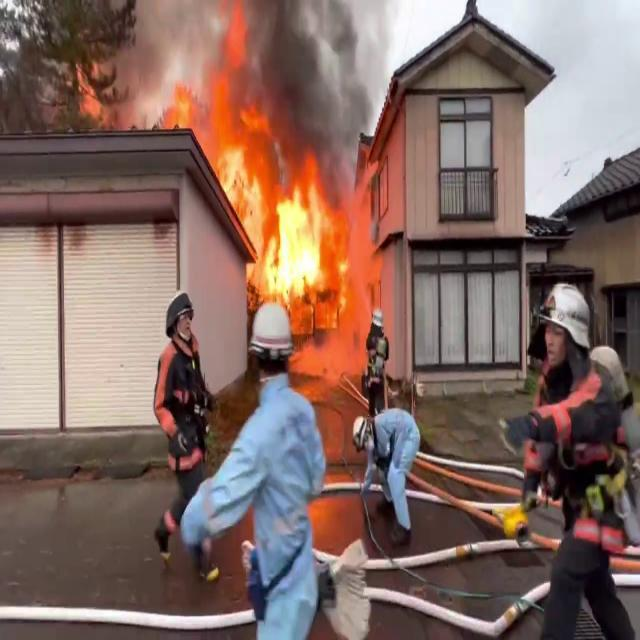Fire: (200, 58, 354, 314)
